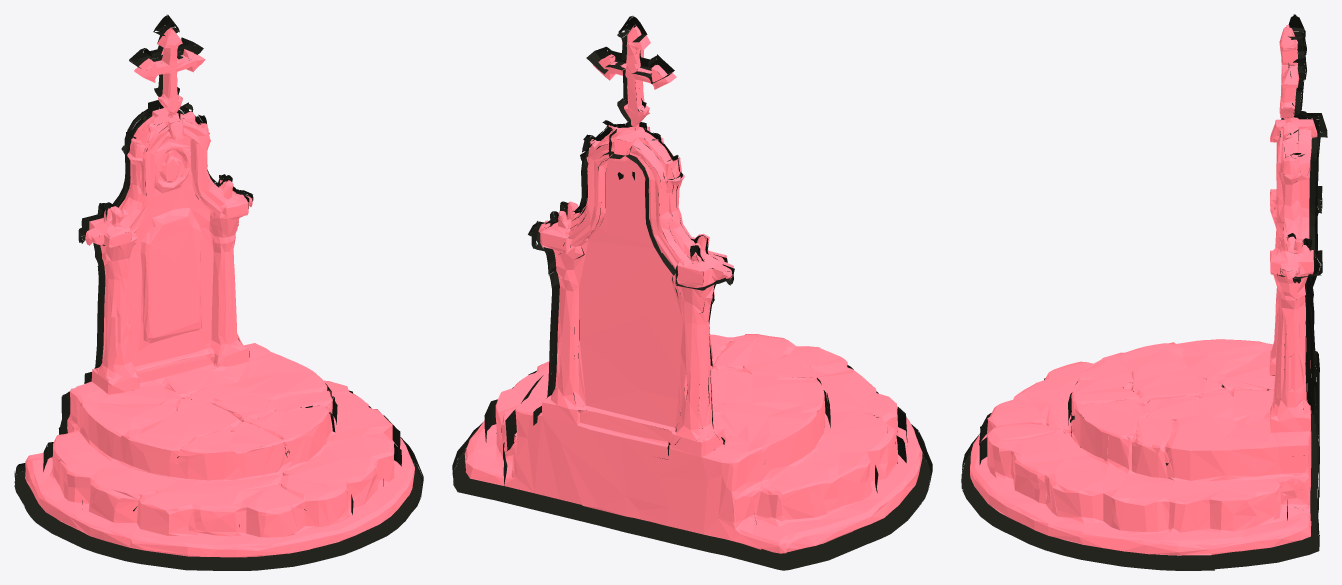
File: df_v2_corrupted_altar_d_a.glb
3 views of the same model, side by side, from view 1: azimuth 30°, elevation 25°; view 2: azimuth 150°, elevation 25°; view 3: azimuth 270°, elevation 25° (orthographic). The views are drawn at different scales.
Visible parts, largest first — view 1: corrupted_altar_d_mesh_01, corrupted_altar_d_mesh_01_ink_outline; view 2: corrupted_altar_d_mesh_01, corrupted_altar_d_mesh_01_ink_outline; view 3: corrupted_altar_d_mesh_01, corrupted_altar_d_mesh_01_ink_outline.
Part boxes in pixels (x1=…): corrupted_altar_d_mesh_01: x1=25, y1=27, x2=414, y2=557; corrupted_altar_d_mesh_01_ink_outline: x1=14, y1=14, x2=423, y2=570; corrupted_altar_d_mesh_01: x1=464, y1=24, x2=922, y2=553; corrupted_altar_d_mesh_01_ink_outline: x1=452, y1=16, x2=932, y2=570; corrupted_altar_d_mesh_01: x1=970, y1=25, x2=1317, y2=555; corrupted_altar_d_mesh_01_ink_outline: x1=961, y1=14, x2=1327, y2=570.
Size of the model in its own units: 1.47 by 1.72 by 1.23.
